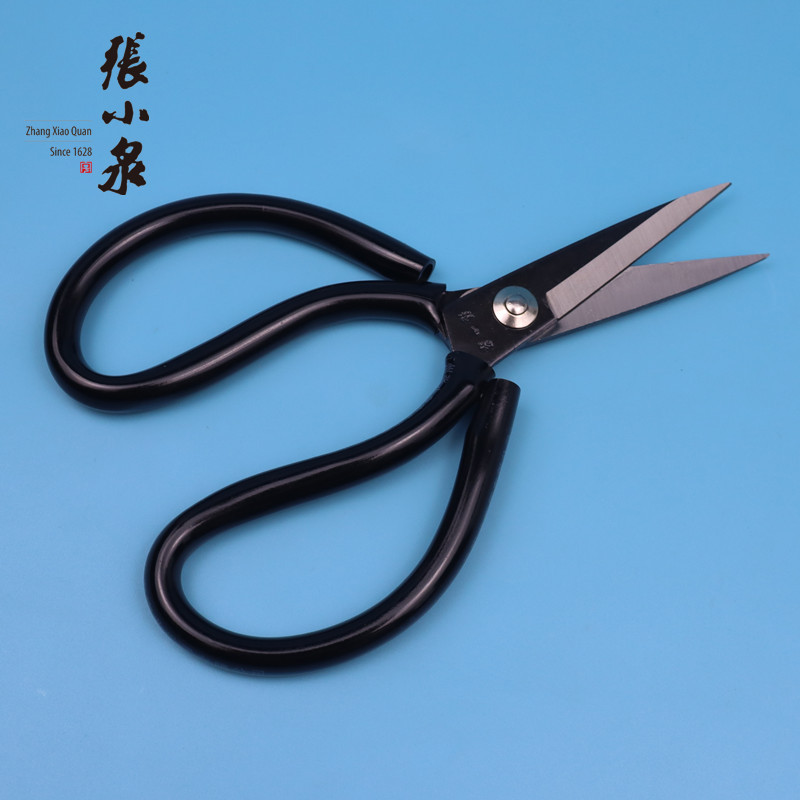scissors: (19, 179, 799, 683)
